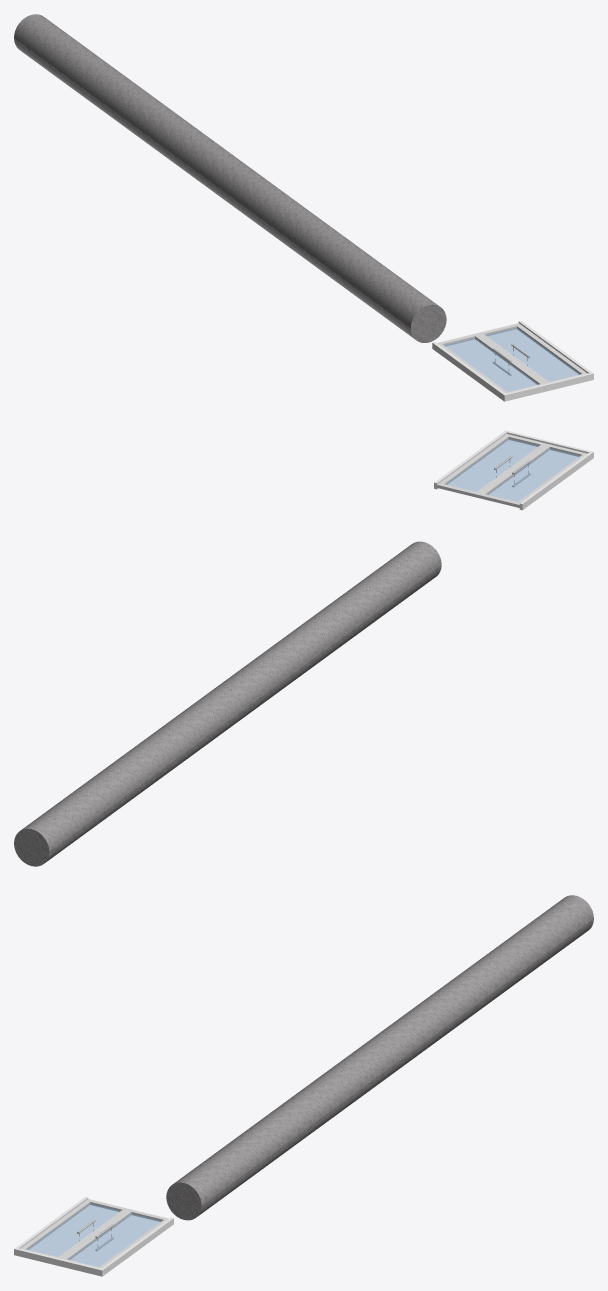
3 views of the same model, one above another, from view 1: azimuth 30°, elevation 25°; view 2: azimuth 150°, elevation 25°; view 3: azimuth 330°, elevation 25° (orthographic).
Visible parts, largest first — view 1: 0_3_1_2_2_0_1_3; view 2: 0_3_1_2_2_0_1_3; view 3: 0_3_1_2_2_0_1_3.
Boxes of the visible parts, x1,y1,x2,y2 form: 0_3_1_2_2_0_1_3: [14, 14, 593, 401]; 0_3_1_2_2_0_1_3: [14, 430, 593, 866]; 0_3_1_2_2_0_1_3: [14, 895, 593, 1276].
Bounding box in the file's own units: 1.5 × 0.8648 × 15.13.
5 materials, 1 textured.
